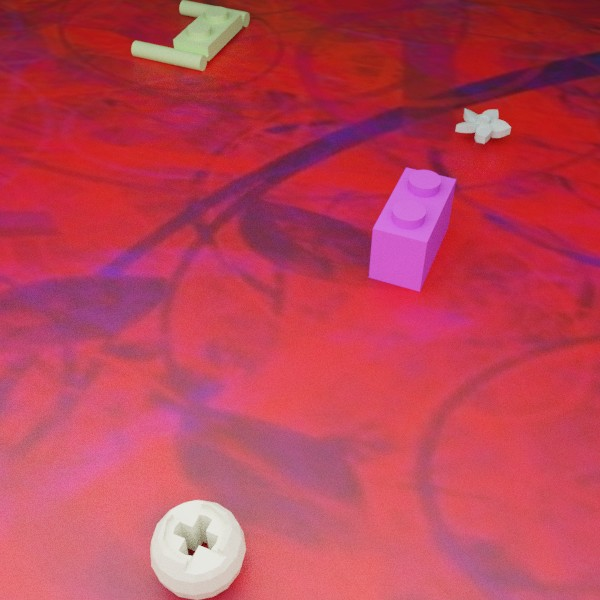lego: (368, 167, 456, 291), (150, 500, 246, 599), (131, 0, 249, 70), (455, 108, 511, 143)
